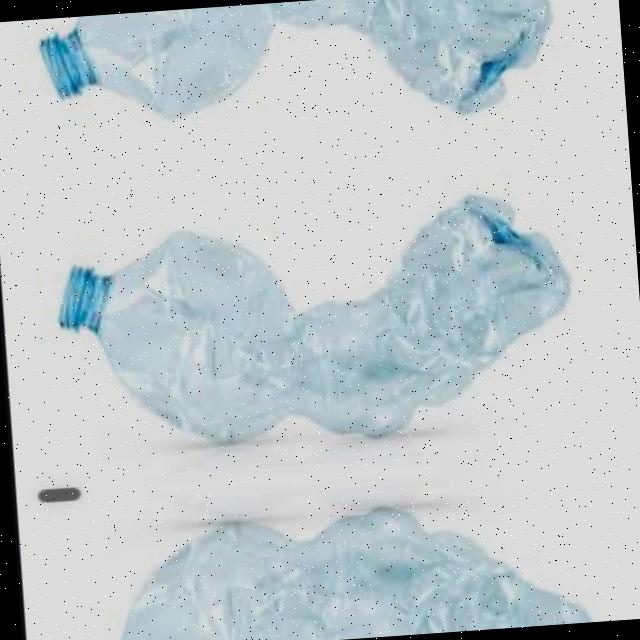Plastic: (41, 158, 588, 451), (29, 0, 568, 171), (65, 499, 602, 640)
